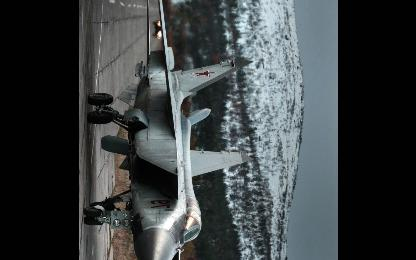Mig31: (83, 0, 253, 259)
